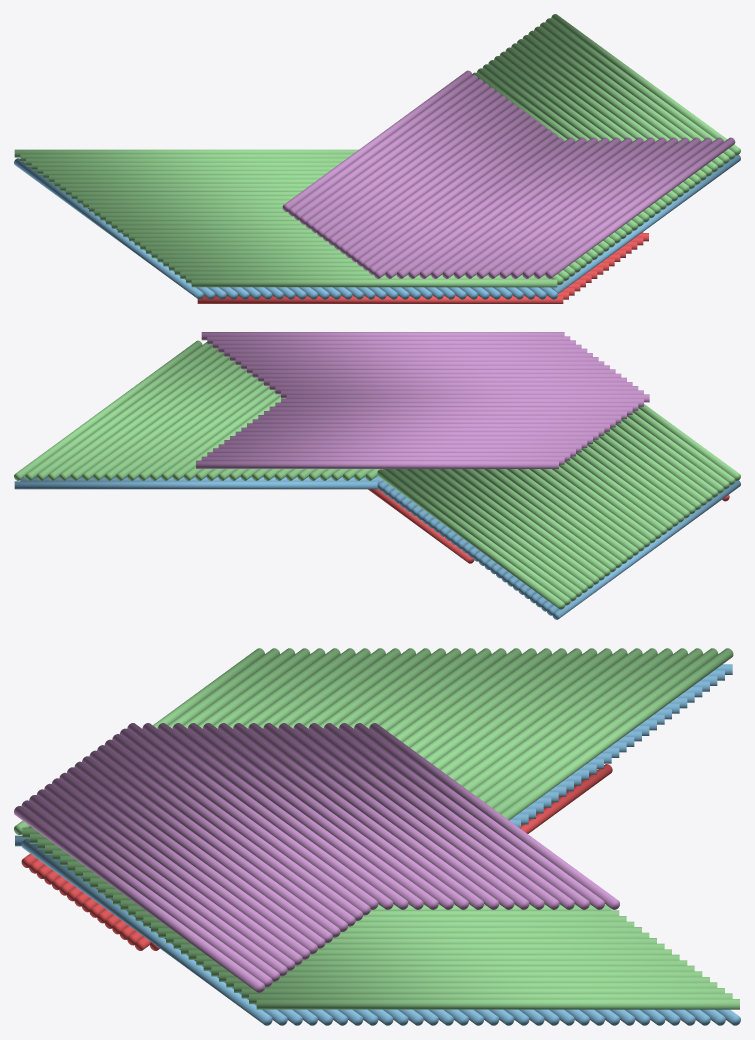
File: 3D_blender_view_glider_v2.glb
3 views of the same model, one above another, from view 1: azimuth 30°, elevation 25°; view 2: azimuth 150°, elevation 25°; view 3: azimuth 270°, elevation 25° (orthographic). The views are drawn at different scales.
Parts seen in each view (by area): view 1: layer3-slat96, layer1-slat17, layer4-slat177, layer2-slat63, layer3-slat127, layer4-slat182, layer4-slat188, layer4-slat160, layer4-slat178, layer4-slat181, layer4-slat184, layer4-slat185 (+70 smaller); view 2: layer2-slat95, layer4-slat176, layer3-slat127, layer4-slat174, layer4-slat186, layer4-slat162, layer4-slat168, layer4-slat180, layer4-slat165, layer4-slat177, layer4-slat160, layer4-slat163 (+71 smaller); view 3: layer3-slat159, layer4-slat177, layer2-slat64, layer3-slat127, layer3-slat153, layer3-slat158, layer4-slat161, layer4-slat170, layer4-slat171, layer4-slat168, layer4-slat162, layer4-slat164 (+72 smaller).
Part boxes in pixels (x1,y1,x2,y2): layer3-slat96: (191, 279, 557, 287); layer1-slat17: (197, 296, 563, 303); layer4-slat177: (545, 137, 735, 278); layer2-slat63: (14, 158, 203, 299); layer3-slat127: (14, 149, 358, 157); layer4-slat182: (488, 137, 677, 278); layer4-slat188: (419, 137, 609, 278); layer4-slat160: (374, 137, 563, 278); layer4-slat178: (534, 137, 723, 278); layer4-slat181: (499, 137, 689, 278); layer4-slat184: (465, 137, 655, 278); layer4-slat185: (454, 137, 643, 278); layer2-slat95: (14, 481, 377, 489); layer4-slat176: (196, 460, 558, 468); layer3-slat127: (377, 469, 565, 609); layer4-slat174: (207, 452, 570, 460); layer4-slat186: (252, 369, 615, 377); layer4-slat162: (275, 402, 638, 410); layer4-slat168: (241, 427, 604, 435); layer4-slat180: (218, 344, 581, 352); layer4-slat165: (258, 415, 621, 423); layer4-slat177: (201, 332, 564, 340); layer4-slat160: (286, 394, 649, 402); layer4-slat163: (269, 406, 632, 414); layer3-slat159: (256, 999, 739, 1009); layer4-slat177: (14, 806, 264, 992); layer2-slat64: (21, 839, 272, 1025); layer3-slat127: (500, 648, 733, 820); layer3-slat153: (211, 965, 694, 976); layer3-slat158: (249, 993, 732, 1004); layer4-slat161: (142, 723, 393, 909); layer4-slat170: (278, 723, 529, 909); layer4-slat171: (293, 723, 544, 909); layer4-slat168: (248, 723, 499, 909); layer4-slat162: (157, 723, 408, 909); layer4-slat164: (187, 723, 438, 909).
Size of the model in its own units: 55.78 by 3.71 by 48.12.
